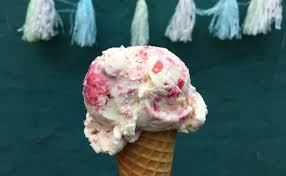ice-cream: (83, 45, 208, 151)
